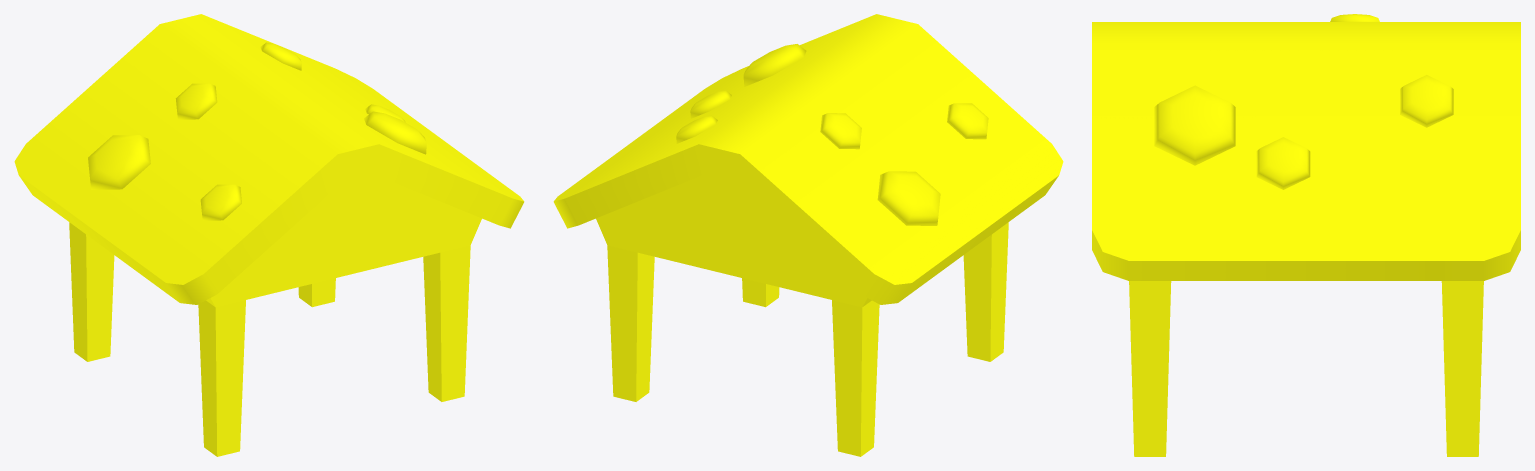
Rendered from _fbx_all_building-roof.glb.
3 renders of one model, left to right at view 1: azimuth 30°, elevation 25°; view 2: azimuth 150°, elevation 25°; view 3: azimuth 270°, elevation 25°, orthographic. The views are drawn at different scales.
Parts seen in each view (by area): view 1: building-roof; view 2: building-roof; view 3: building-roof.
Boxes of the visible parts, x1,y1,x2,y2 form: building-roof: [14, 14, 524, 456]; building-roof: [553, 14, 1063, 456]; building-roof: [1092, 14, 1520, 456].
Size of the model in its own units: 1.34 by 1.05 by 1.17.
Materials: 1 (1 with a texture image).
